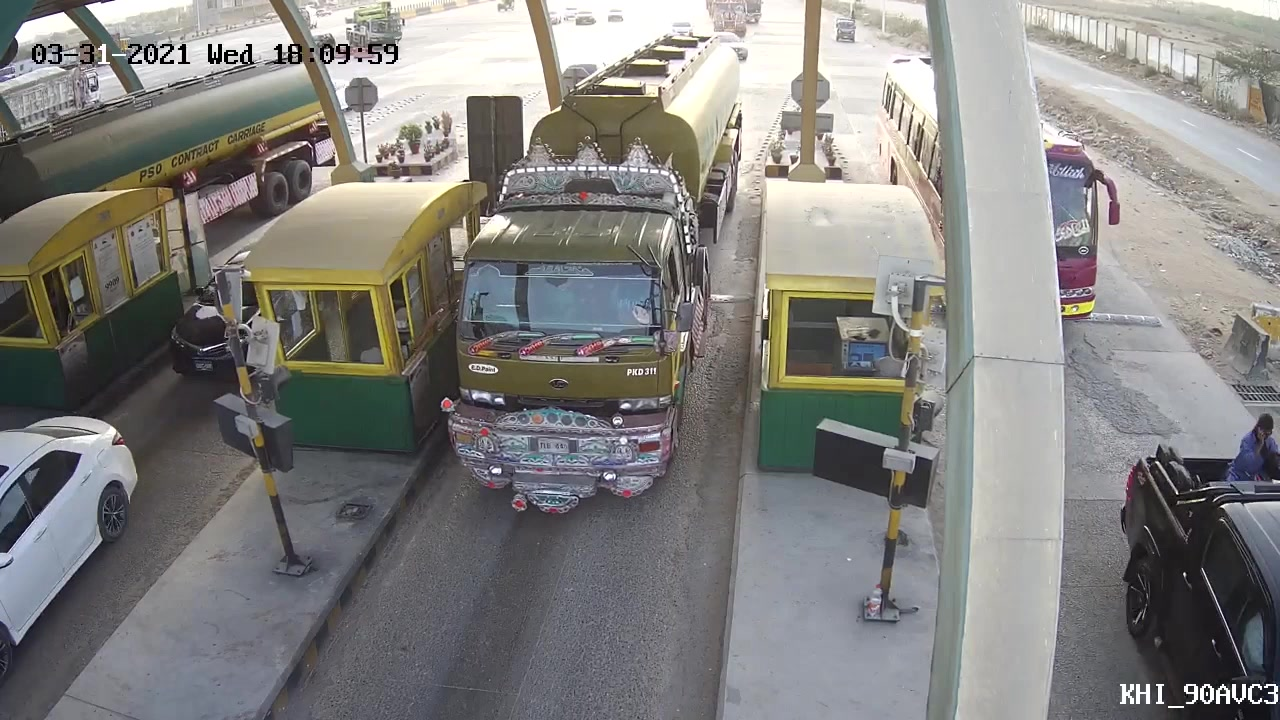F6: (442, 24, 750, 517)
